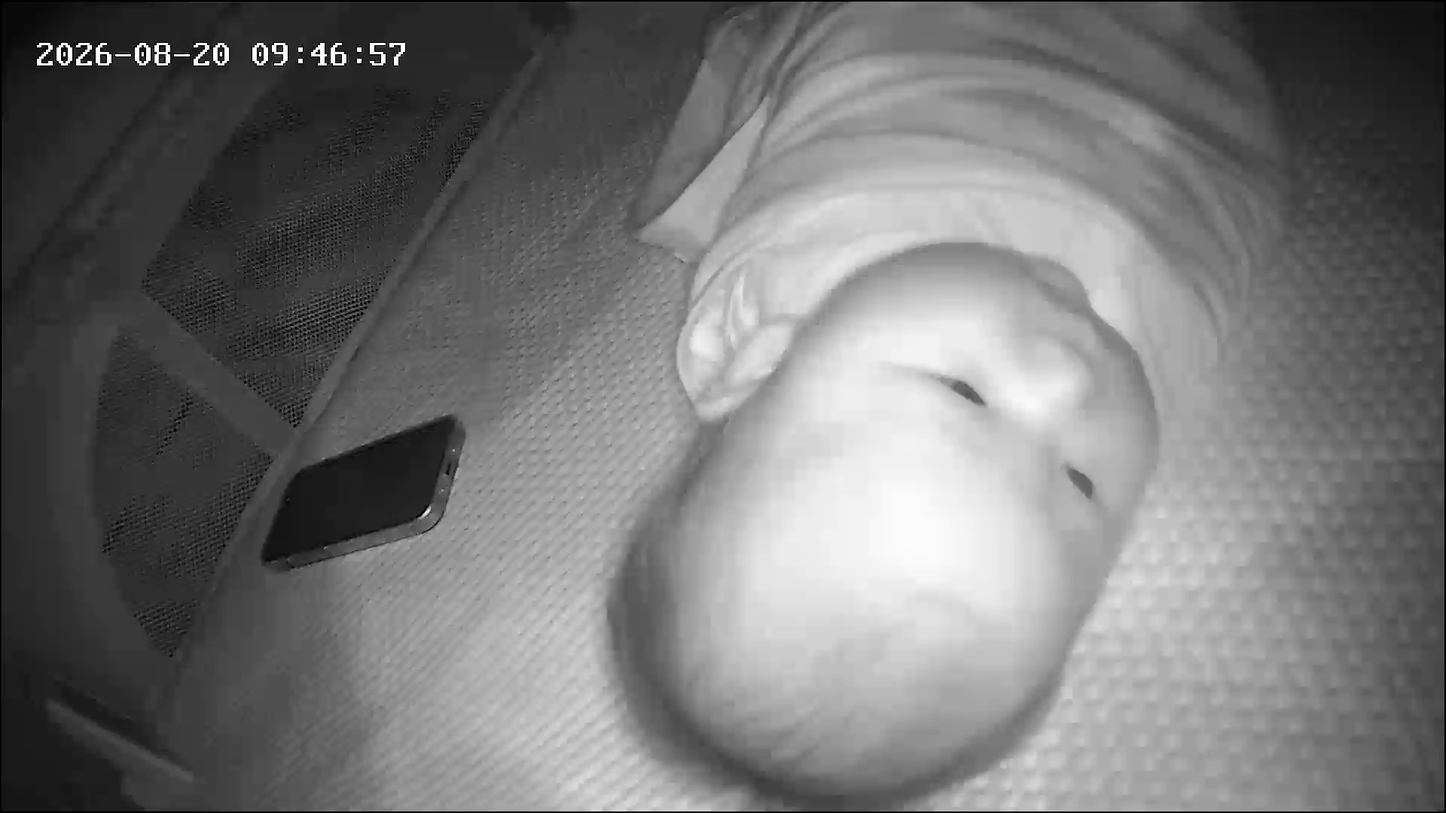baby: (589, 2, 1336, 806)
baby_face: (624, 241, 1186, 807)
